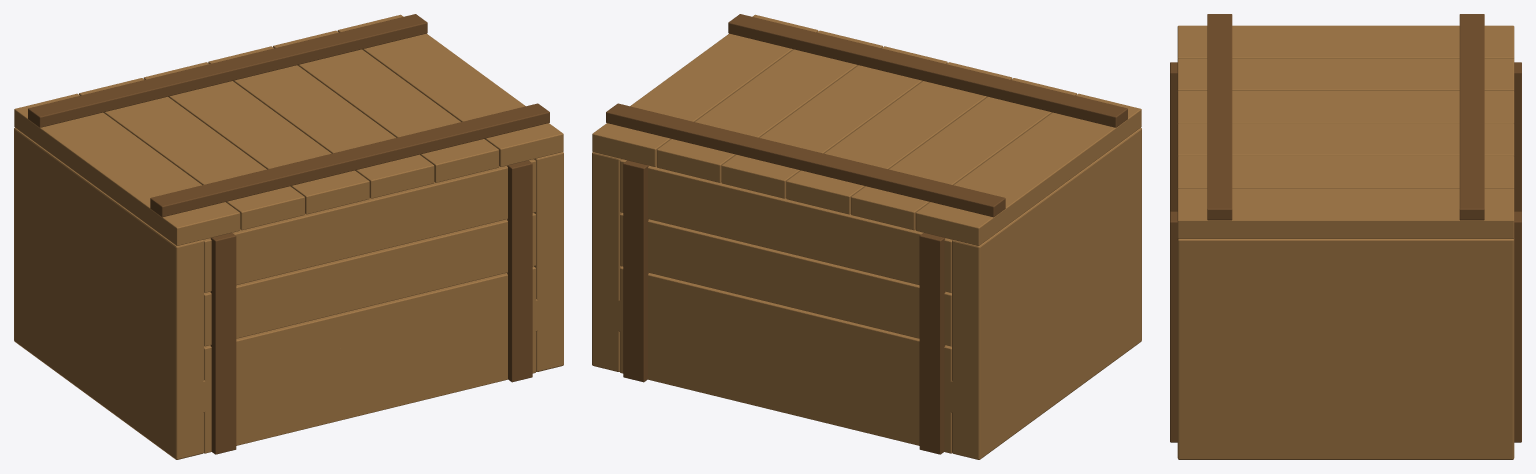
Rendered from source-edit.glb.
3 renders of one model, left to right at view 1: azimuth 30°, elevation 25°; view 2: azimuth 150°, elevation 25°; view 3: azimuth 270°, elevation 25°, orthographic. The views are drawn at different scales.
Parts seen in each view (by area): view 1: CRATE_End.001, CRATE_Base, CRATE_SideBoard.004, CRATE_SideBoard.003, CRATE_SideBoard.001, LID_Plank_0, CRATE_SideBoard.002, LID_Rail.001, LID_Rail, LID_Plank_3, LID_Plank_4, LID_Plank_2 (+5 smaller); view 2: CRATE_End.001, CRATE_SideBoard, CRATE_Base, CRATE_SideBoard.007, CRATE_SideBoard.006, CRATE_SideBoard.005, LID_Plank_0, LID_Rail, LID_Rail.001, LID_Plank_3, LID_Plank_4, LID_Plank_2 (+5 smaller); view 3: CRATE_End, LID_Plank_5, CRATE_Base, LID_Plank_0, LID_Plank_1, LID_Plank_3, LID_Plank_4, LID_Plank_2, LID_Rail, LID_Rail.001, CRATE_Brace.003, CRATE_Brace (+2 smaller).
Part boxes in pixels (x1,y1,x2,y2): CRATE_End.001: (14, 128, 203, 459); CRATE_Base: (14, 270, 563, 418); CRATE_SideBoard.004: (203, 159, 535, 292); CRATE_SideBoard.003: (204, 212, 535, 346); CRATE_SideBoard.001: (204, 331, 535, 453); LID_Plank_0: (14, 93, 240, 245); CRATE_SideBoard.002: (204, 266, 535, 398); LID_Rail.001: (150, 103, 549, 217); LID_Rail: (28, 14, 427, 127); LID_Plank_3: (208, 46, 434, 198); LID_Plank_4: (273, 30, 498, 182); LID_Plank_2: (143, 62, 369, 214); CRATE_End.001: (952, 128, 1141, 459); CRATE_SideBoard: (620, 159, 952, 292); CRATE_Base: (592, 270, 1141, 418); CRATE_SideBoard.007: (620, 212, 951, 346); CRATE_SideBoard.006: (620, 266, 951, 398); CRATE_SideBoard.005: (620, 323, 951, 453); LID_Plank_0: (915, 93, 1141, 245); LID_Rail: (606, 103, 1005, 217); LID_Rail.001: (728, 14, 1127, 127); LID_Plank_3: (721, 46, 947, 198); LID_Plank_4: (657, 30, 882, 182); LID_Plank_2: (786, 62, 1012, 214); CRATE_End: (1177, 238, 1514, 459); LID_Plank_5: (1177, 188, 1514, 238); CRATE_Base: (1177, 385, 1514, 417); LID_Plank_0: (1177, 25, 1514, 58); LID_Plank_1: (1177, 58, 1514, 91); LID_Plank_3: (1177, 123, 1514, 156); LID_Plank_4: (1177, 156, 1514, 188); LID_Plank_2: (1177, 91, 1514, 123); LID_Rail: (1459, 14, 1484, 220); LID_Rail.001: (1207, 14, 1232, 220); CRATE_Brace.003: (1170, 211, 1177, 442); CRATE_Brace: (1514, 211, 1521, 442).
Bounding box in the file's own units: 1.1 × 0.66 × 0.837.
